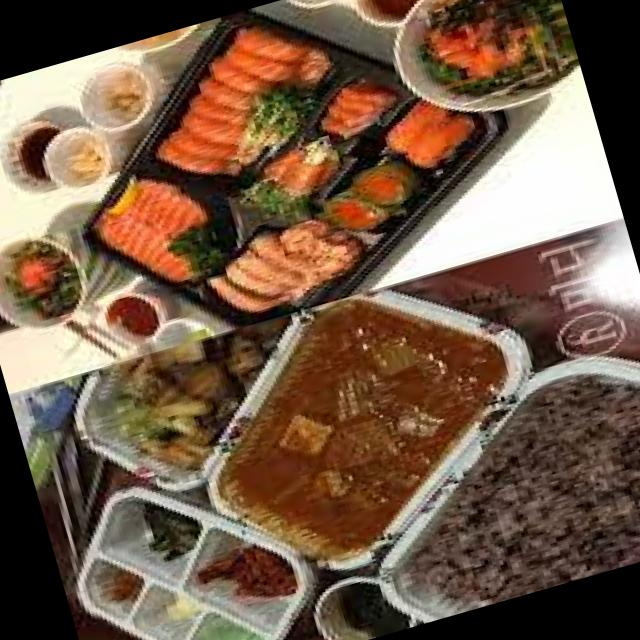Instant Noodle Cups: (373, 0, 581, 114), (0, 212, 138, 333)
plastic-bowl: (70, 14, 521, 328), (192, 281, 551, 578), (351, 347, 640, 622), (62, 308, 310, 498), (70, 474, 327, 640), (304, 567, 427, 640), (70, 54, 174, 134), (41, 120, 127, 193), (92, 279, 177, 344), (103, 21, 203, 58), (142, 309, 216, 352), (280, 0, 337, 10)
